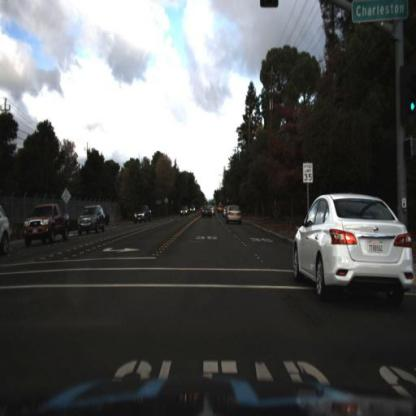car: (284, 179, 416, 313), (22, 198, 73, 254), (75, 201, 110, 237), (1, 199, 22, 256), (130, 201, 153, 232), (222, 202, 247, 225), (200, 202, 216, 222), (181, 206, 191, 218)
